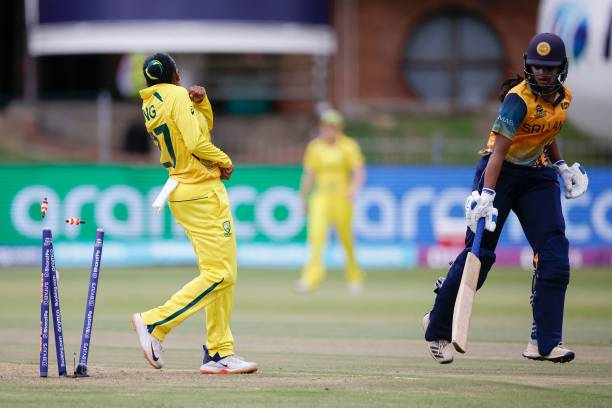bottom left: (449, 333, 460, 347)
bottom right: (460, 342, 470, 353)
top left: (463, 248, 473, 262)
top right: (476, 255, 486, 269)
